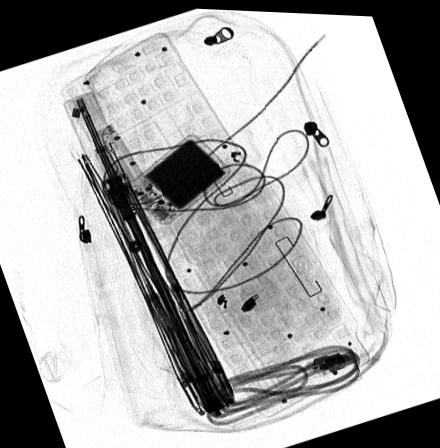Powerbank: (125, 131, 232, 222)
